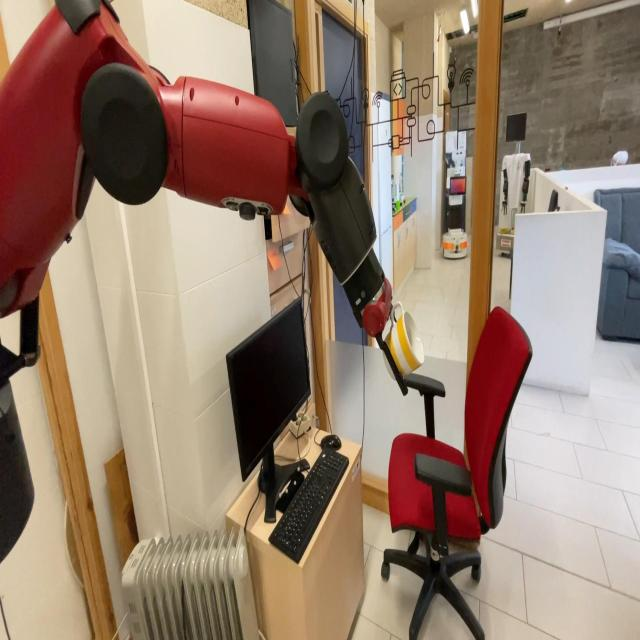cup: (379, 300, 426, 382)
